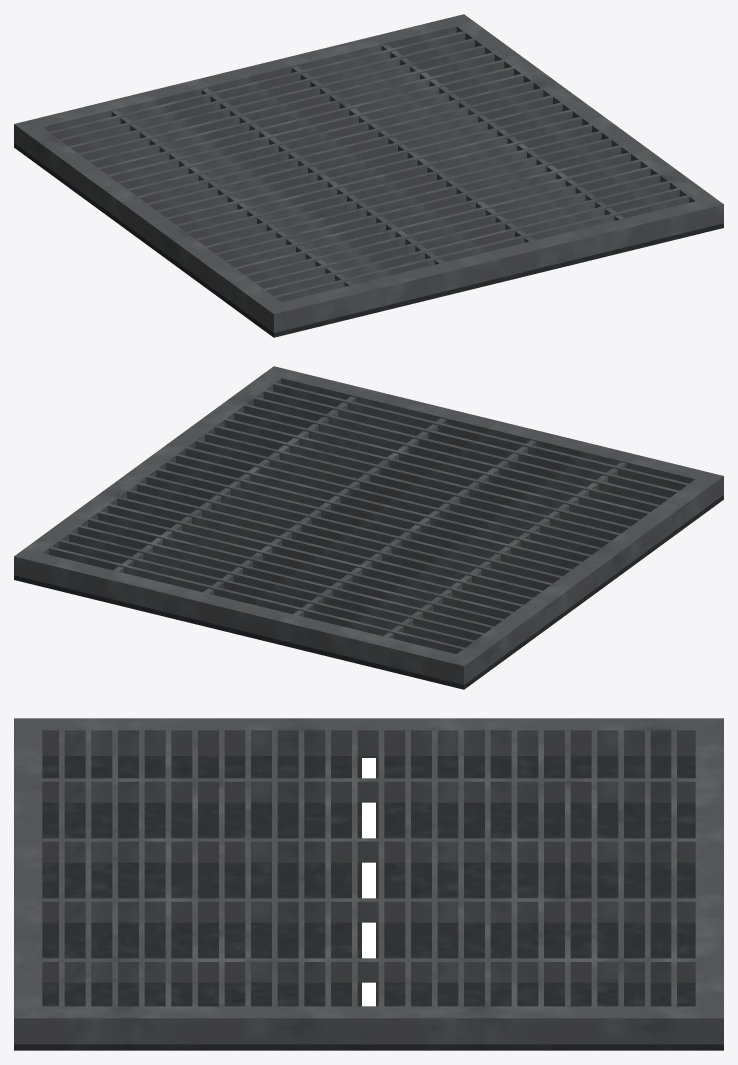
Rendered from floor-grate.lod1.glb.
3 renders of one model, top to bottom at view 1: azimuth 30°, elevation 25°; view 2: azimuth 150°, elevation 25°; view 3: azimuth 270°, elevation 25°, orthographic. The views are drawn at different scales.
Visible parts, largest first — view 1: FloorGrate_gunmetal, FloorGrate_dark; view 2: FloorGrate_gunmetal, FloorGrate_dark; view 3: FloorGrate_gunmetal, FloorGrate_dark, FloorGrate_glow.
Boxes of the visible parts, bbox=[...] form: FloorGrate_gunmetal: bbox=[14, 14, 723, 332]; FloorGrate_dark: bbox=[14, 143, 723, 337]; FloorGrate_gunmetal: bbox=[14, 366, 723, 684]; FloorGrate_dark: bbox=[14, 495, 723, 689]; FloorGrate_gunmetal: bbox=[14, 718, 723, 1044]; FloorGrate_dark: bbox=[14, 756, 723, 1050]; FloorGrate_glow: bbox=[362, 758, 375, 1006].
Size of the model in its own units: 2 by 0.1 by 2.
Materials: 3 (2 with a texture image).
